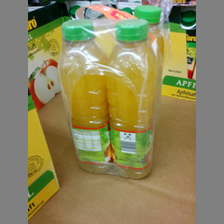juice: (104, 21, 155, 177), (59, 19, 111, 171)
